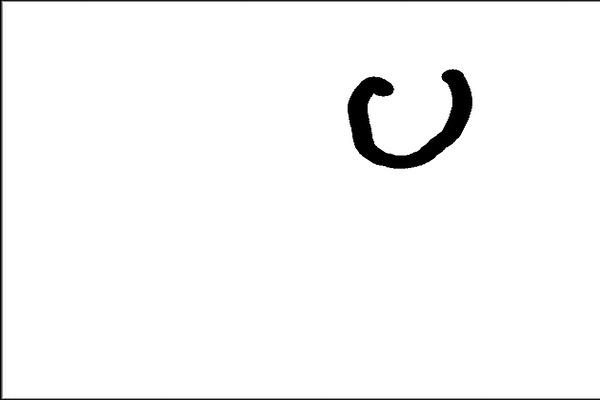U: (343, 65, 478, 169)
